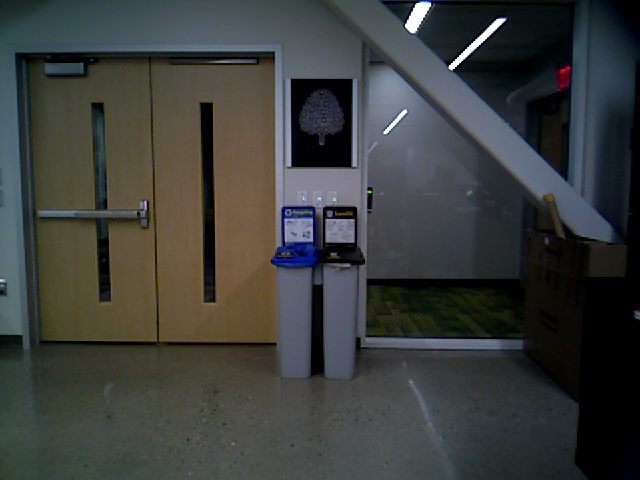painting1: (283, 75, 359, 174)
